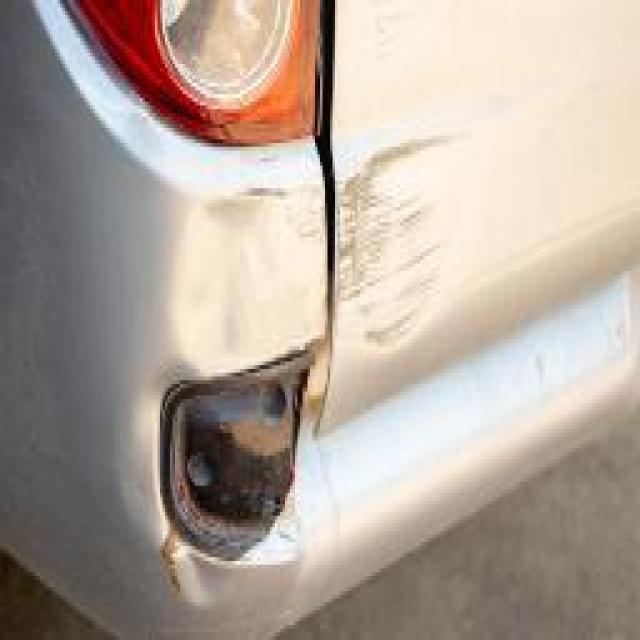Bumper: (125, 120, 325, 625)
Dickey: (332, 4, 515, 384)
